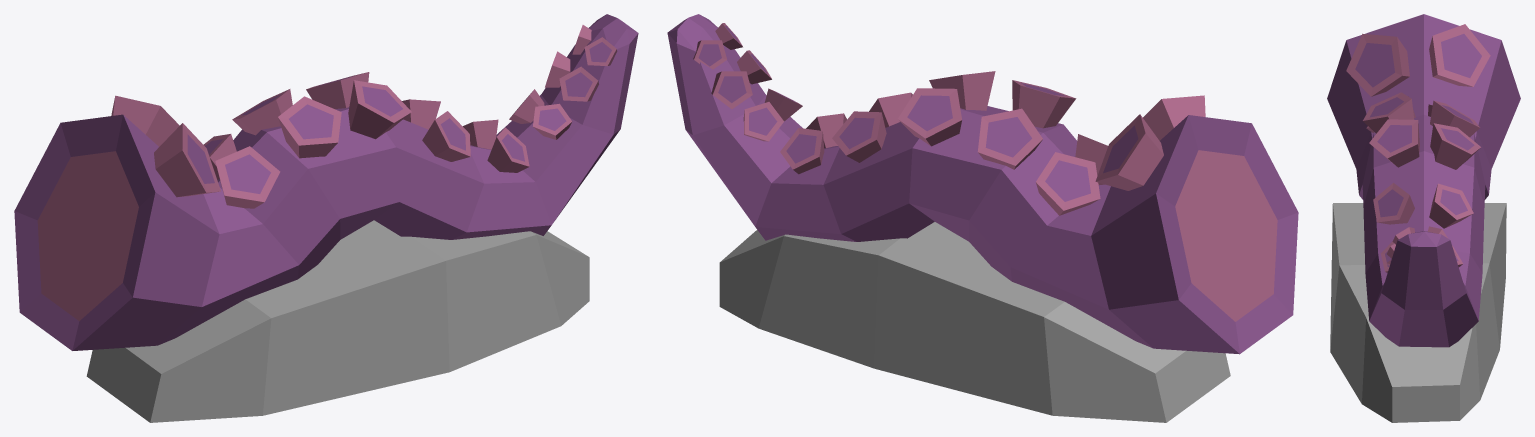
File: quaternius-ultimate-food-sushi-nigirioctopus.glb
3 renders of one model, left to right at view 1: azimuth 30°, elevation 25°; view 2: azimuth 150°, elevation 25°; view 3: azimuth 270°, elevation 25°, orthographic. The views are drawn at different scales.
Parts seen in each view (by area): view 1: Sushi_NigiriOctopus; view 2: Sushi_NigiriOctopus; view 3: Sushi_NigiriOctopus.
Boxes of the visible parts, x1,y1,x2,y2 form: Sushi_NigiriOctopus: (14, 14, 638, 422); Sushi_NigiriOctopus: (667, 14, 1298, 422); Sushi_NigiriOctopus: (1327, 14, 1520, 422).
Bounding box in the file's own units: 0.762 × 0.3504 × 0.2673.
